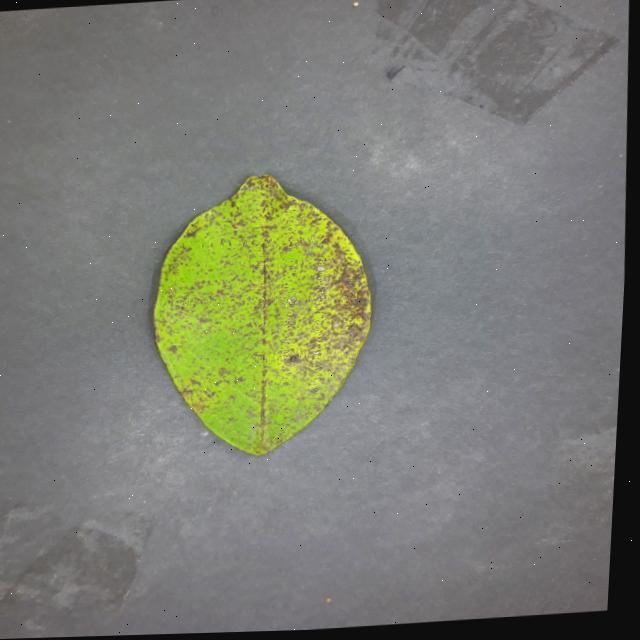greasy_spot: (152, 175, 369, 454)
